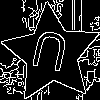U: (26, 29, 71, 82)
